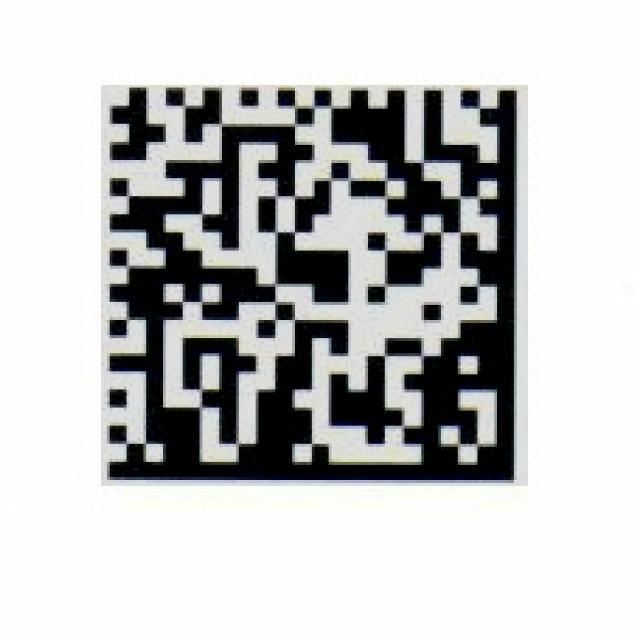Data-Matrix: (101, 85, 528, 486)
